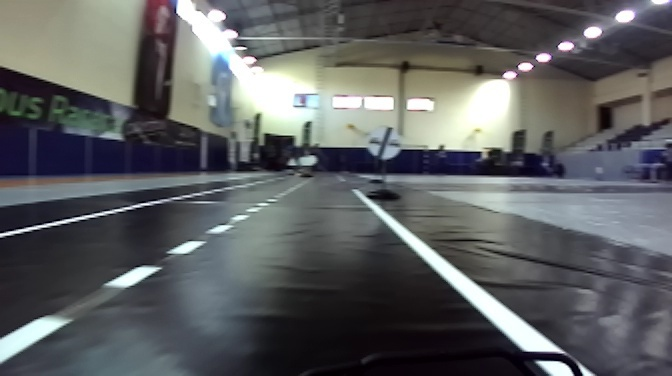sollama_serbest: (366, 125, 403, 161)
